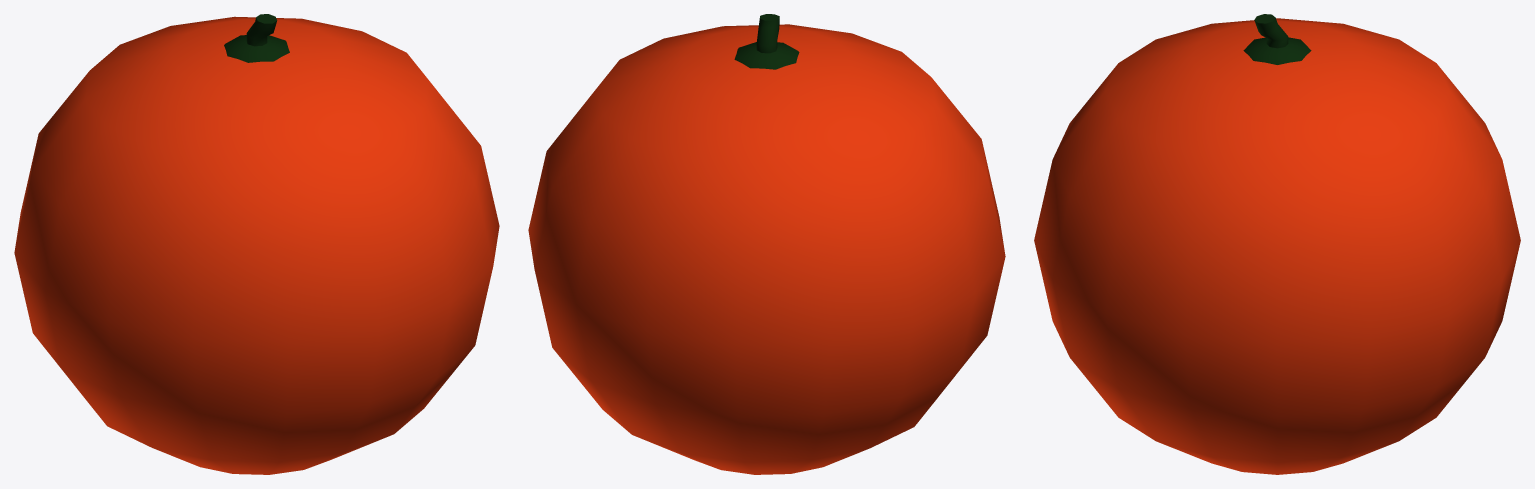
File: orange.FBX
The picture shows the model from 3 angles, left to right: view 1: azimuth 30°, elevation 25°; view 2: azimuth 150°, elevation 25°; view 3: azimuth 270°, elevation 25°; orthographic projection.
Visible parts, largest first — view 1: orange, queueOrange; view 2: orange, queueOrange; view 3: orange, queueOrange.
Boxes of the visible parts, x1,y1,x2,y2 form: orange: (14, 16, 499, 474); queueOrange: (224, 14, 289, 62); orange: (528, 24, 1005, 474); queueOrange: (734, 14, 799, 69); orange: (1034, 18, 1520, 474); queueOrange: (1243, 14, 1311, 64).
Size of the model in its own units: 8.81 by 8.69 by 8.81.
